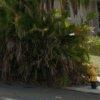Palm tree: (12, 12, 87, 81)
